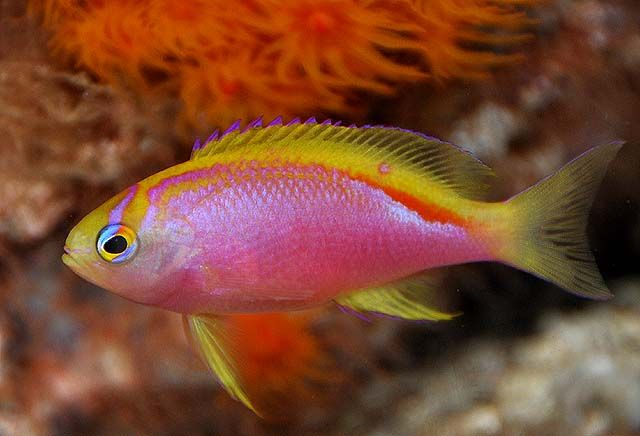fish: (61, 113, 627, 419)
